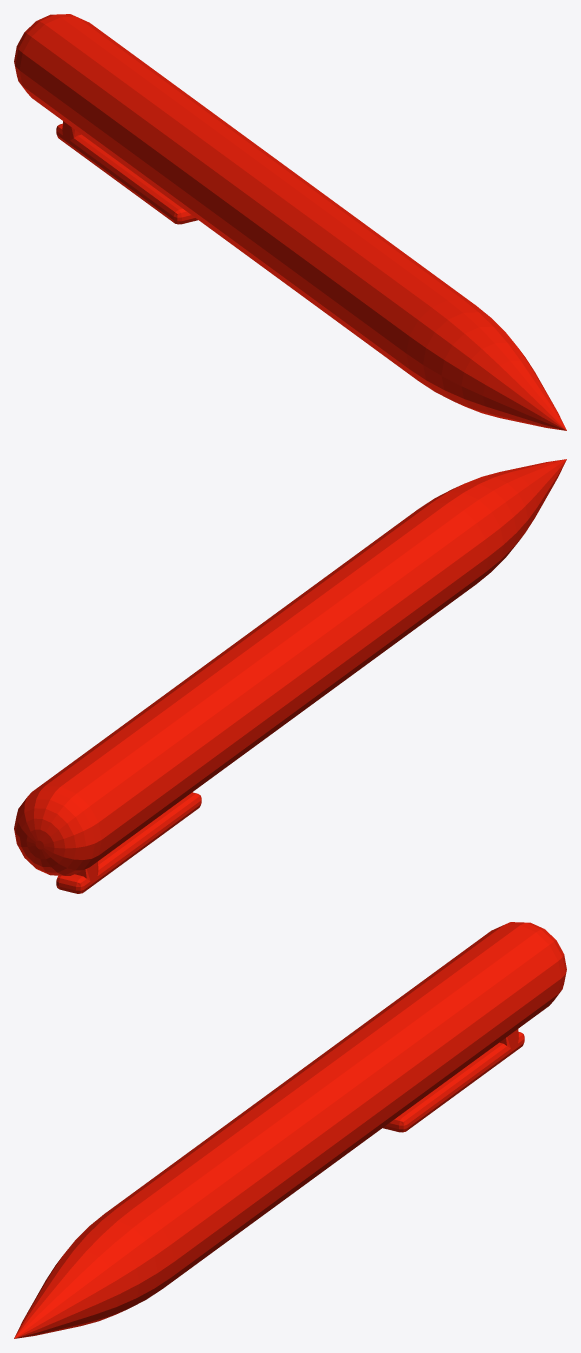
The model's file is qv_pen_short.fbx.
3 views of the same model, one above another, from view 1: azimuth 30°, elevation 25°; view 2: azimuth 150°, elevation 25°; view 3: azimuth 330°, elevation 25° (orthographic).
Visible parts, largest first — view 1: QVshort; view 2: QVshort; view 3: QVshort.
Boxes of the visible parts, bbox=[...] form: QVshort: bbox=[14, 14, 566, 430]; QVshort: bbox=[14, 459, 566, 893]; QVshort: bbox=[14, 922, 566, 1338].
Bounding box in the file's own units: 3.08 × 4.01 × 34.11.
